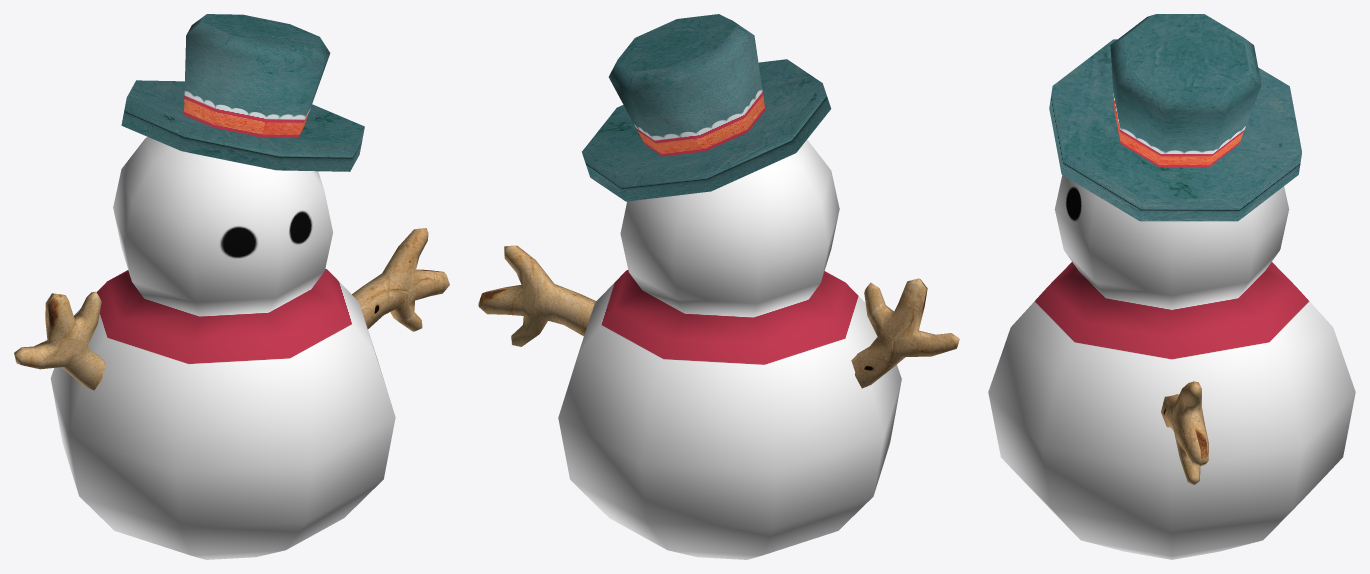
The model's file is SnowMan.fbx.
The picture shows the model from 3 angles, left to right: view 1: azimuth 30°, elevation 25°; view 2: azimuth 150°, elevation 25°; view 3: azimuth 270°, elevation 25°; orthographic projection. The views are drawn at different scales.
Visible parts, largest first — view 1: SnowMan; view 2: SnowMan; view 3: SnowMan.
Part boxes in pixels (x1,y1,x2,y2): SnowMan: (14, 14, 449, 559); SnowMan: (478, 14, 959, 559); SnowMan: (988, 14, 1355, 559).
Bounding box in the file's own units: 84.61 × 90.7 × 57.17.
